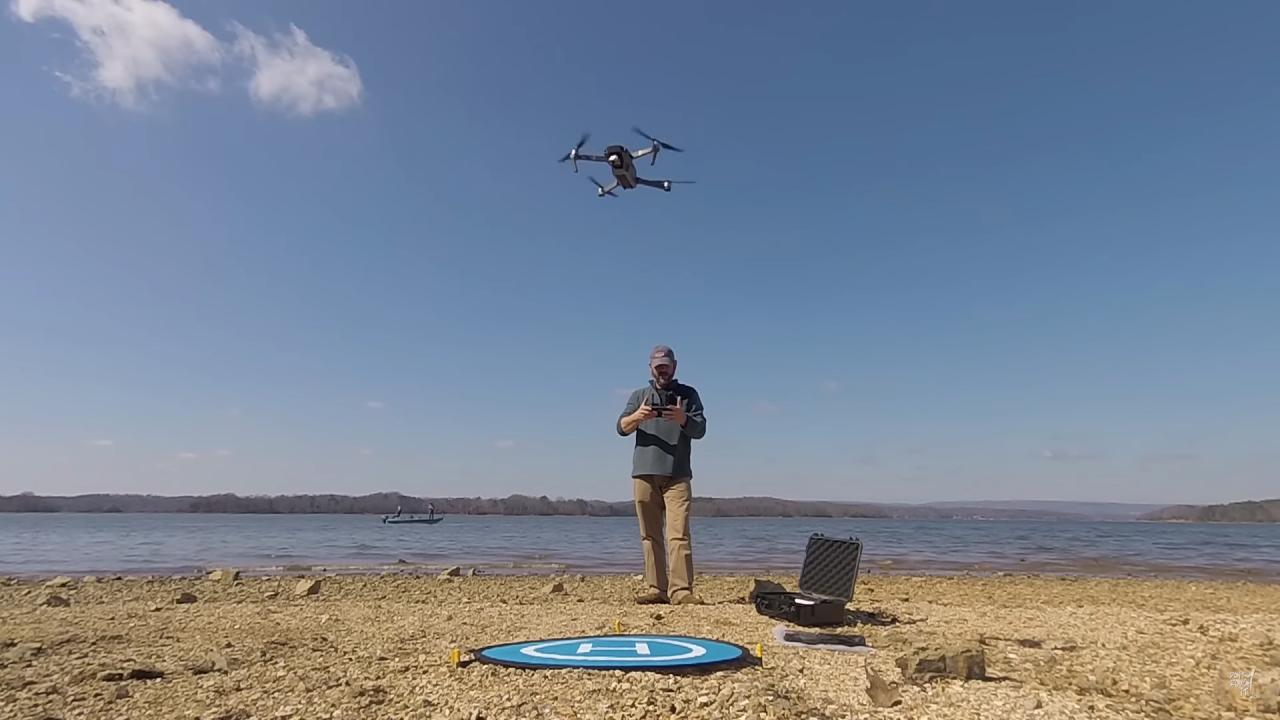Drone: (543, 113, 709, 218)
